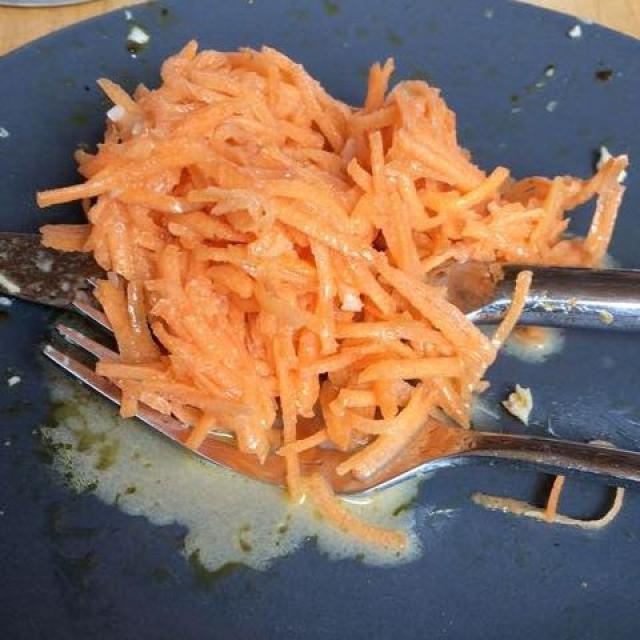carrot-raw: (58, 51, 620, 576)
